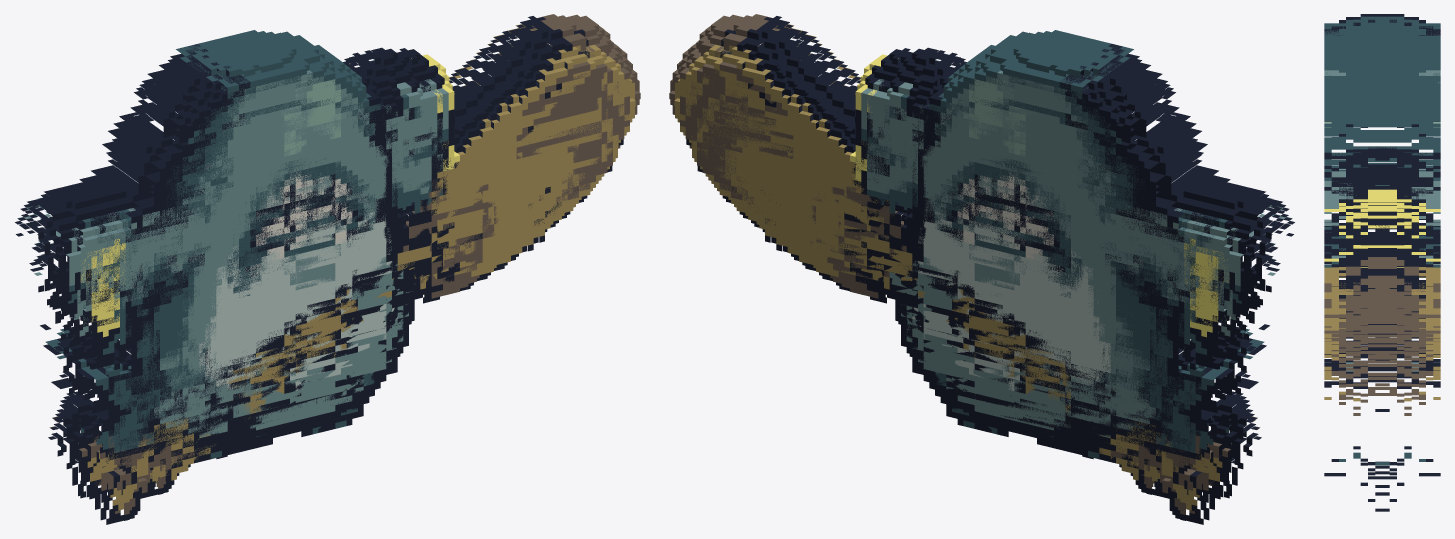
The model's file is tubarao_nadando.glb.
3 renders of one model, left to right at view 1: azimuth 30°, elevation 25°; view 2: azimuth 150°, elevation 25°; view 3: azimuth 270°, elevation 25°, orthographic. The views are drawn at different scales.
Visible parts, largest first — view 1: q0, q1, q2, q5, q4, q3; view 2: q0, q1, q2, q5, q4, q3; view 3: q4, q1, q2, q5, q0, q3.
Boxes of the visible parts, bbox=[...] form: q0: bbox=[29, 81, 620, 524]; q1: bbox=[42, 30, 607, 498]; q2: bbox=[26, 45, 612, 481]; q5: bbox=[15, 14, 612, 492]; q4: bbox=[36, 14, 640, 498]; q3: bbox=[34, 41, 629, 494]; q0: bbox=[689, 81, 1280, 524]; q1: bbox=[702, 30, 1266, 498]; q2: bbox=[697, 45, 1283, 481]; q5: bbox=[697, 14, 1294, 487]; q4: bbox=[669, 14, 1274, 498]; q3: bbox=[680, 41, 1275, 494]; q4: bbox=[1324, 14, 1440, 487]; q1: bbox=[1324, 19, 1440, 474]; q2: bbox=[1324, 56, 1440, 475]; q5: bbox=[1324, 57, 1440, 511]; q0: bbox=[1324, 60, 1440, 415]; q3: bbox=[1324, 57, 1440, 395].
Size of the model in its own units: 105 by 73 by 16.
Materials: 1 (1 with a texture image).
